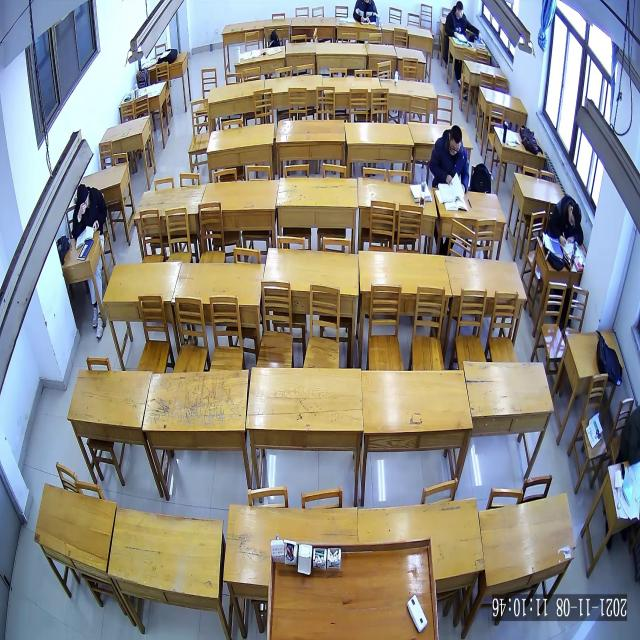down: (448, 123, 464, 158), (566, 201, 583, 229), (76, 181, 92, 210)
sit: (429, 121, 470, 192), (70, 178, 107, 242), (546, 191, 586, 248), (443, 1, 482, 39)
